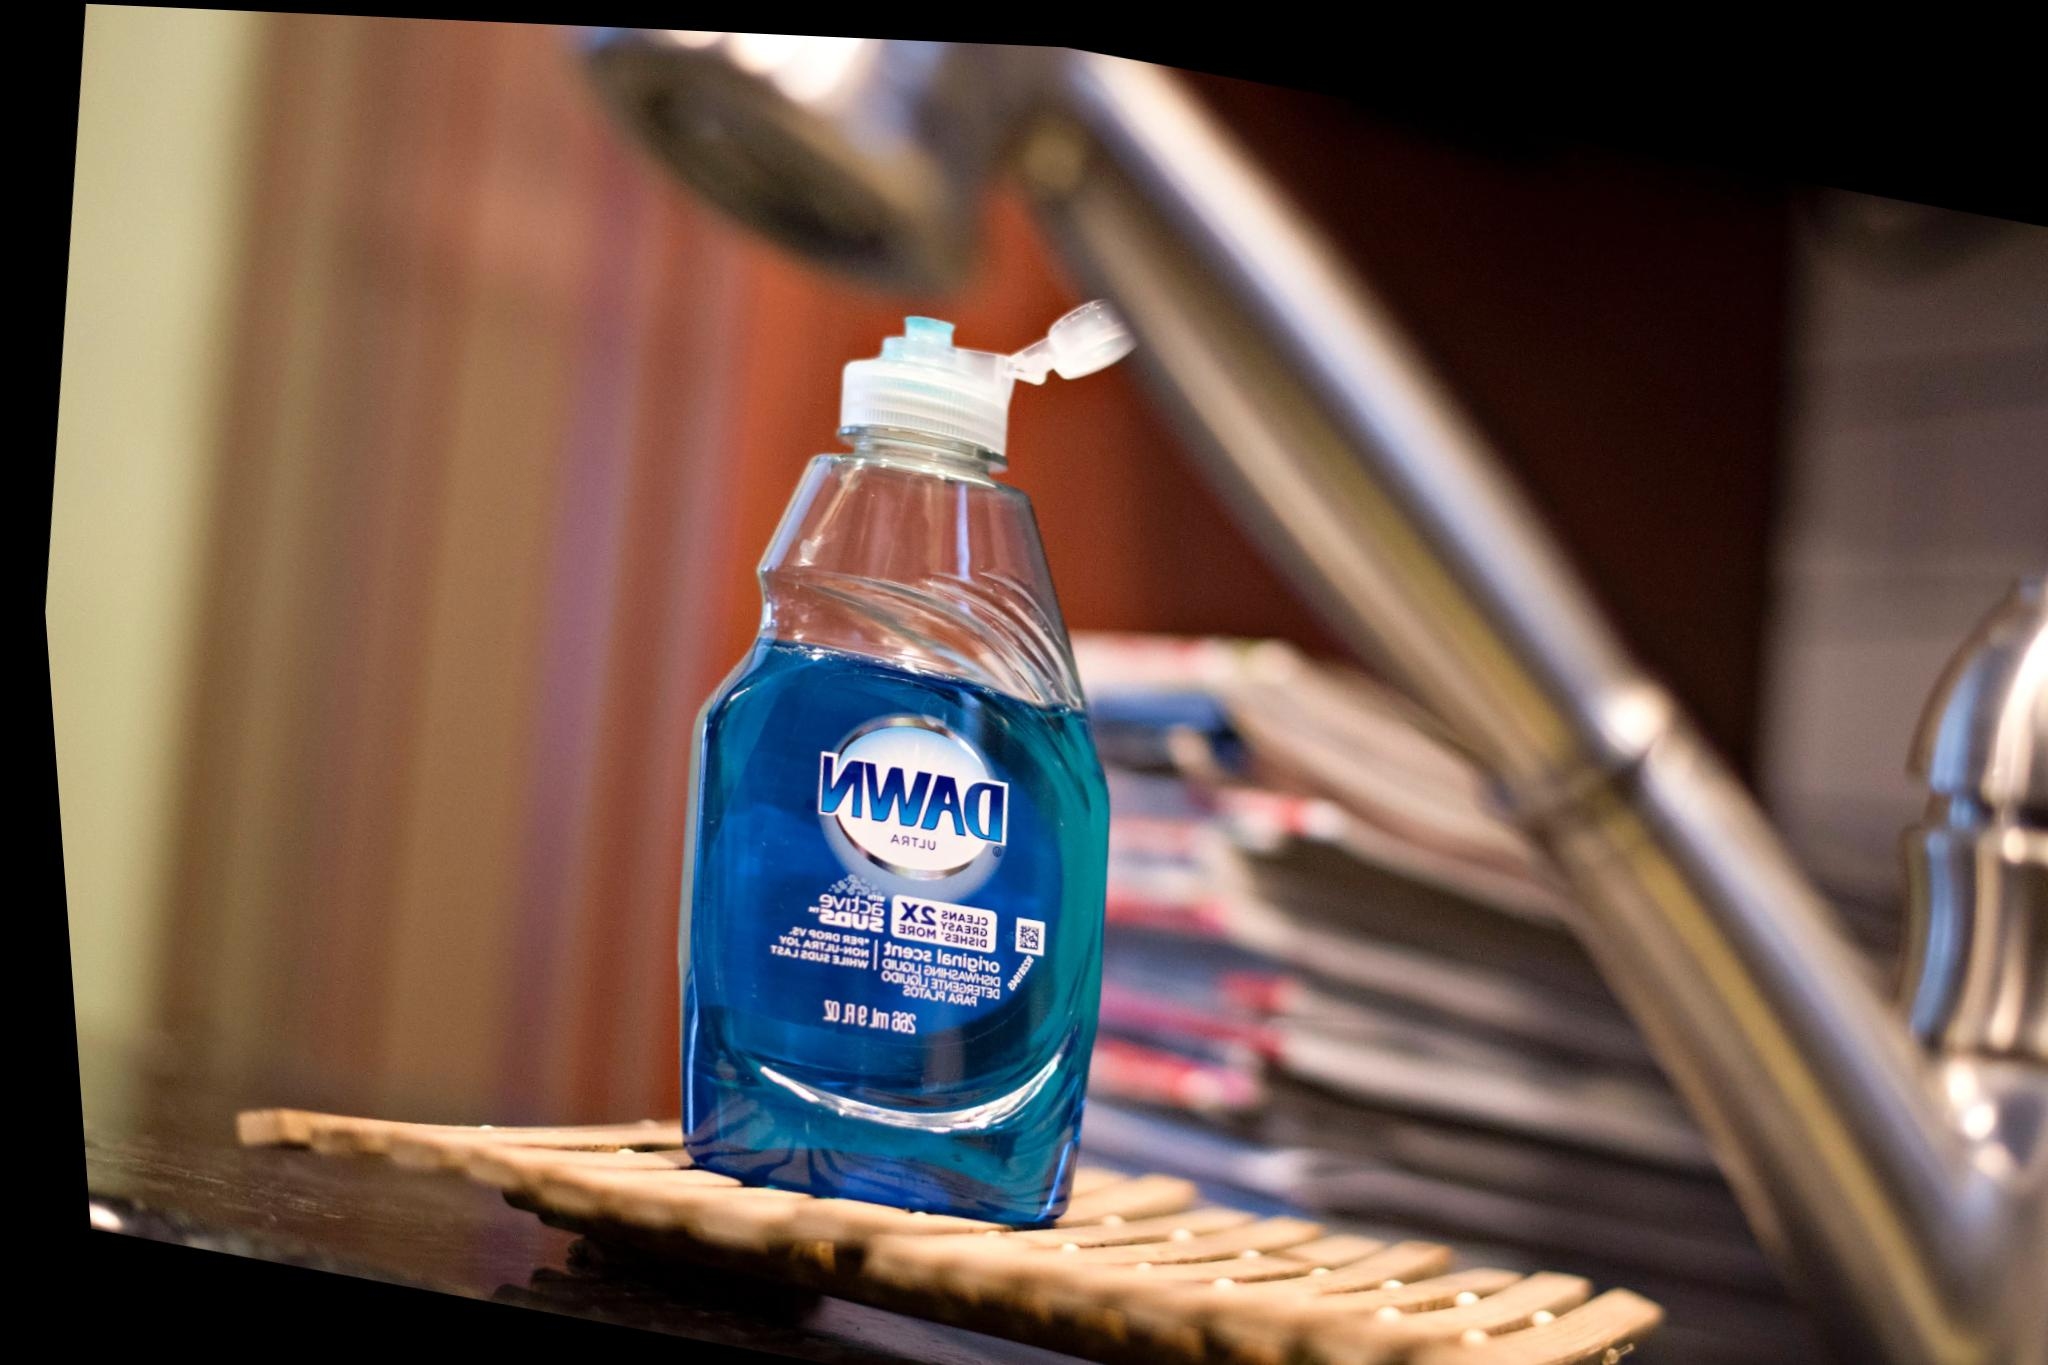plastic: (681, 302, 1128, 1219)
